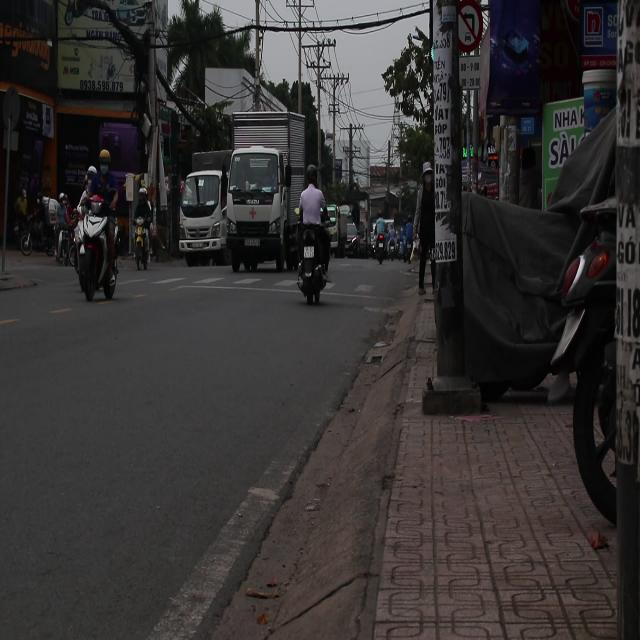car: (477, 172, 499, 200)
motorbike: (73, 196, 124, 303), (294, 224, 332, 303), (380, 224, 398, 263), (374, 234, 389, 264)
truck: (226, 146, 288, 272), (179, 151, 235, 269)
